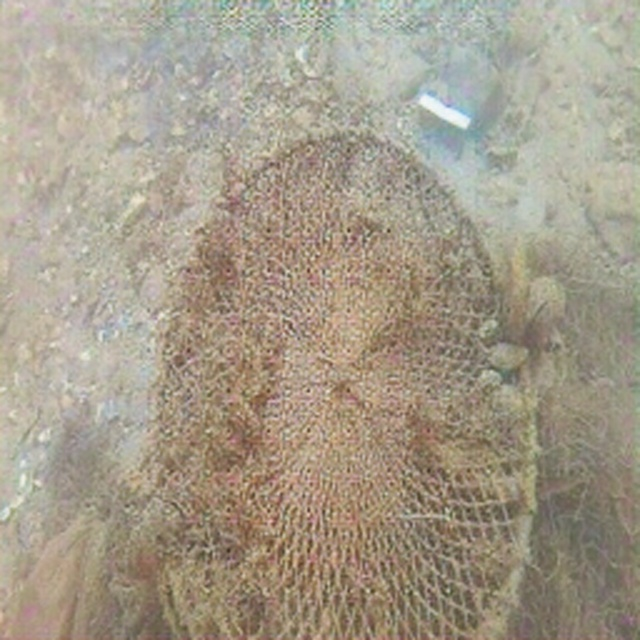mine: (144, 124, 539, 640)
